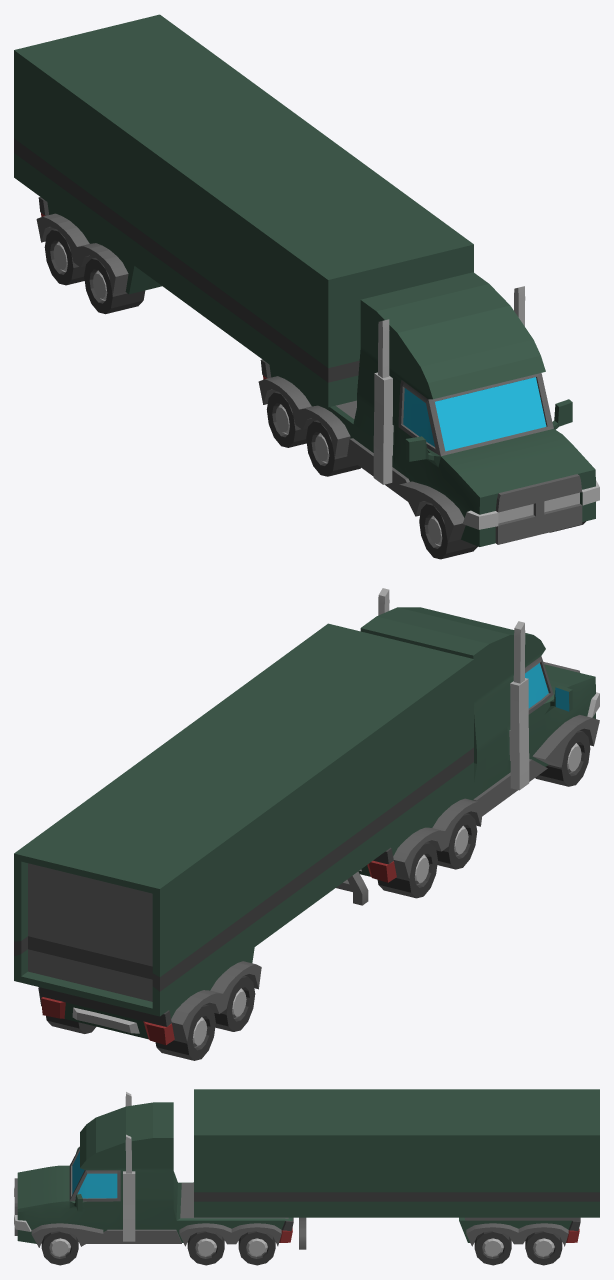
File: Semi and  Trailer.fbx
The picture shows the model from 3 angles, top to bottom: view 1: azimuth 30°, elevation 25°; view 2: azimuth 150°, elevation 25°; view 3: azimuth 270°, elevation 25°; orthographic projection. The views are drawn at different scales.
Parts seen in each view (by area): view 1: polySurface30, polySurface29; view 2: polySurface30, polySurface29; view 3: polySurface30, polySurface29.
Part boxes in pixels (<box>): polySurface30: <box>14,14,473,407</box>; polySurface29: <box>258,272,599,559</box>; polySurface30: <box>14,623,473,1060</box>; polySurface29: <box>358,588,599,898</box>; polySurface30: <box>194,1089,599,1265</box>; polySurface29: <box>14,1092,293,1265</box>.
Bounding box in the file's own units: 4.23 × 5 × 20.32.
